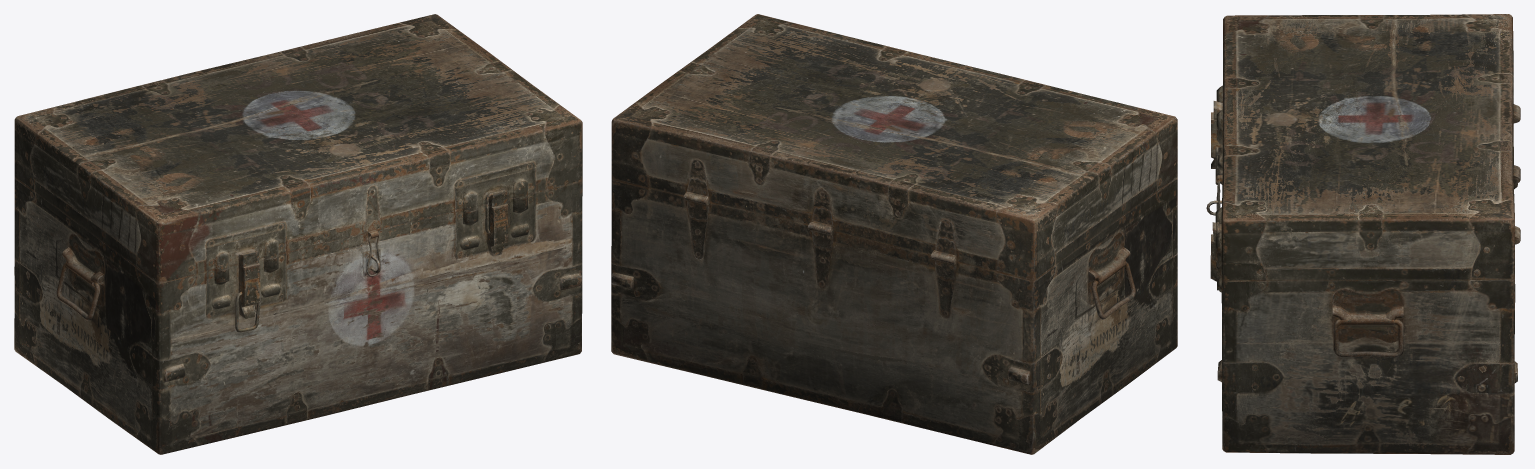
File: medical_crate_low.fbx
3 renders of one model, left to right at view 1: azimuth 30°, elevation 25°; view 2: azimuth 150°, elevation 25°; view 3: azimuth 270°, elevation 25°, orthographic.
Parts seen in each view (by area): view 1: medical_crate_low; view 2: medical_crate_low; view 3: medical_crate_low.
Boxes of the visible parts, box(x1,y1,x2,y2) form: medical_crate_low: box(14, 14, 582, 454); medical_crate_low: box(611, 14, 1177, 454); medical_crate_low: box(1206, 14, 1520, 454).
Size of the model in its own units: 98.88 by 50.57 by 60.44.
